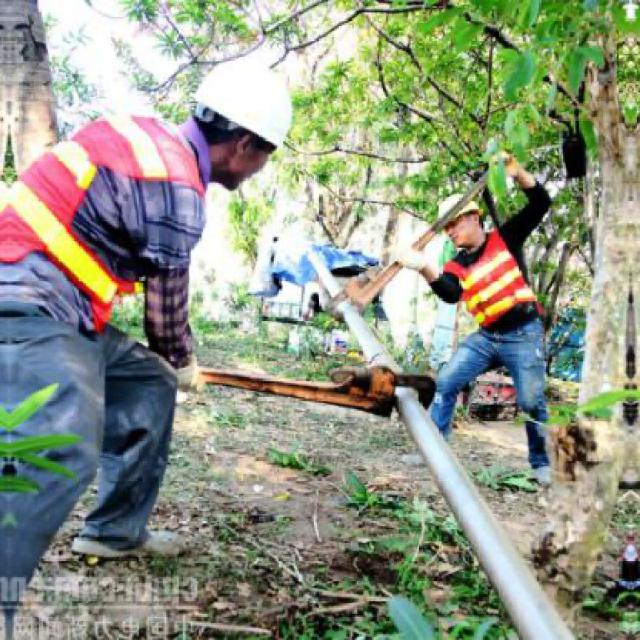helmet: (182, 54, 304, 194), (438, 180, 494, 251)
